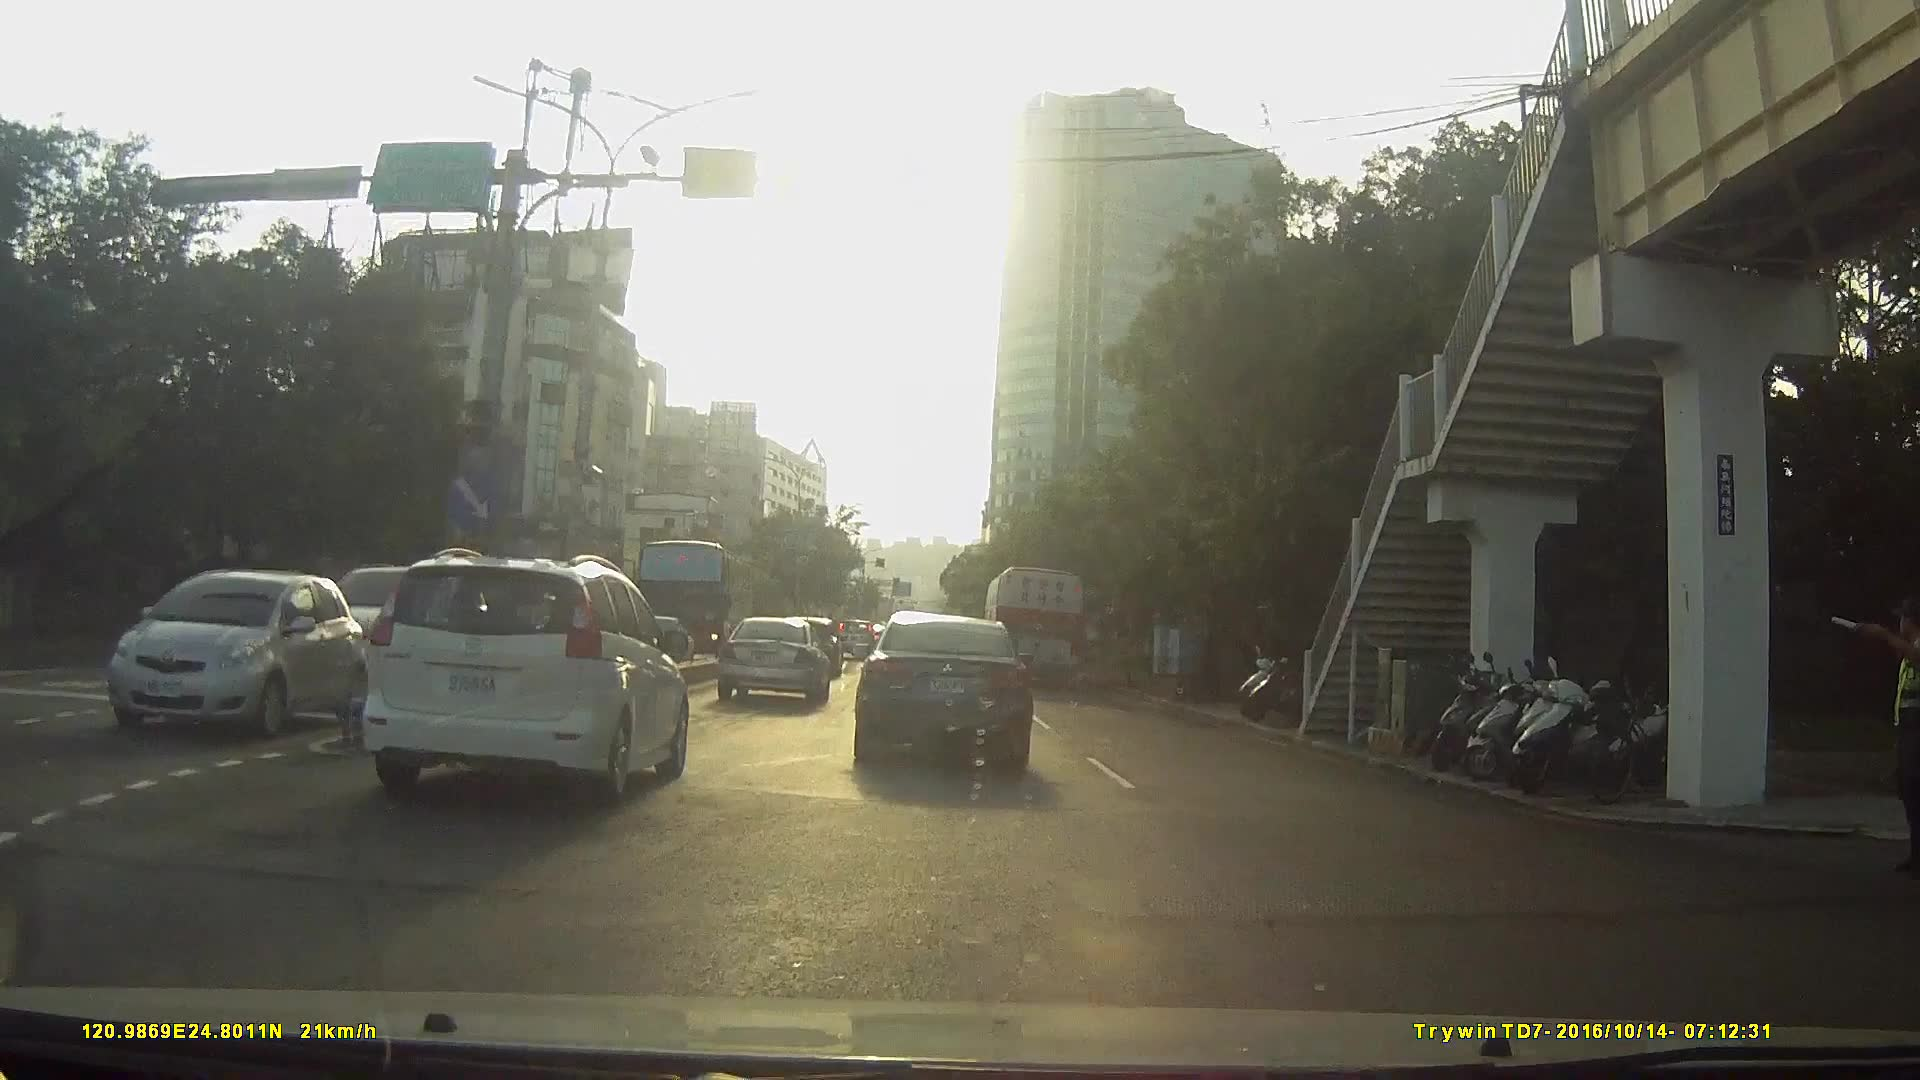pedestrian: (1816, 595, 1914, 866)
vehicle: (250, 556, 684, 868), (362, 547, 691, 802), (79, 562, 365, 754), (854, 607, 1035, 778), (628, 538, 756, 660), (982, 564, 1089, 696), (718, 615, 831, 707), (832, 617, 878, 659)
